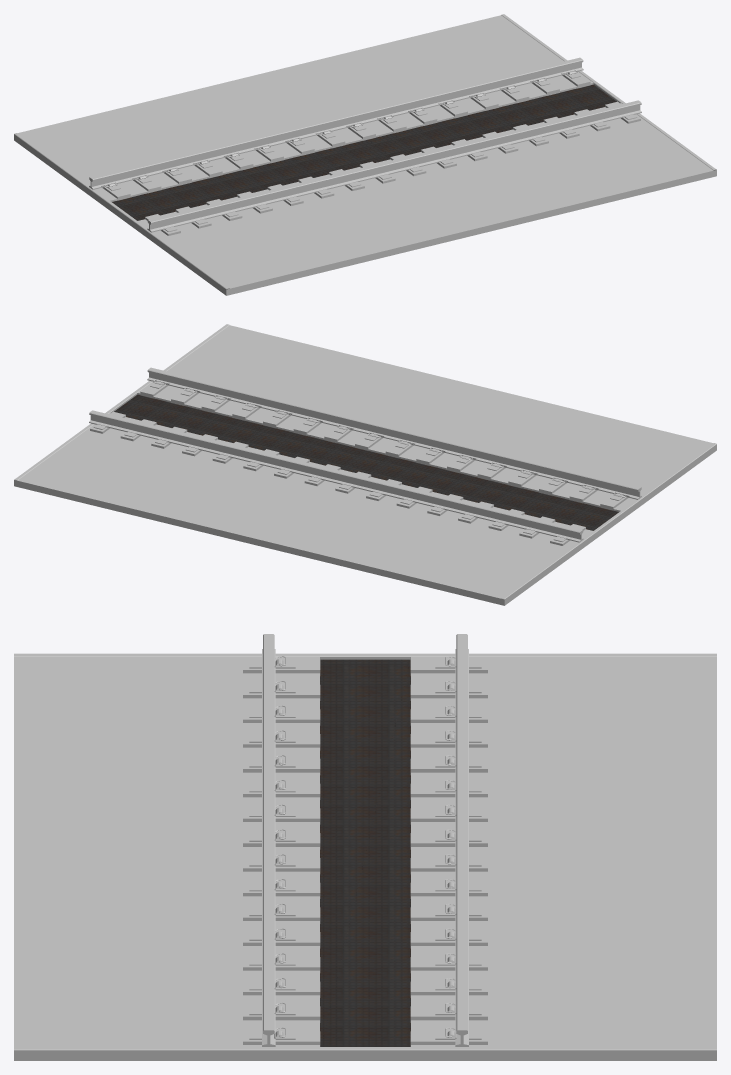
Rendered from SM_Tunnel_Floor_8m.fbx.
3 renders of one model, top to bottom at view 1: azimuth 30°, elevation 25°; view 2: azimuth 150°, elevation 25°; view 3: azimuth 270°, elevation 25°, orthographic. The views are drawn at different scales.
Visible parts, largest first — view 1: SM_Tunnel_Floor; view 2: SM_Tunnel_Floor; view 3: SM_Tunnel_Floor.
Part boxes in pixels (x1,y1,x2,y2): SM_Tunnel_Floor: (14,14,716,295); SM_Tunnel_Floor: (14,324,716,605); SM_Tunnel_Floor: (14,634,716,1060).
Bounding box in the file's own units: 800 × 28.87 × 600.
